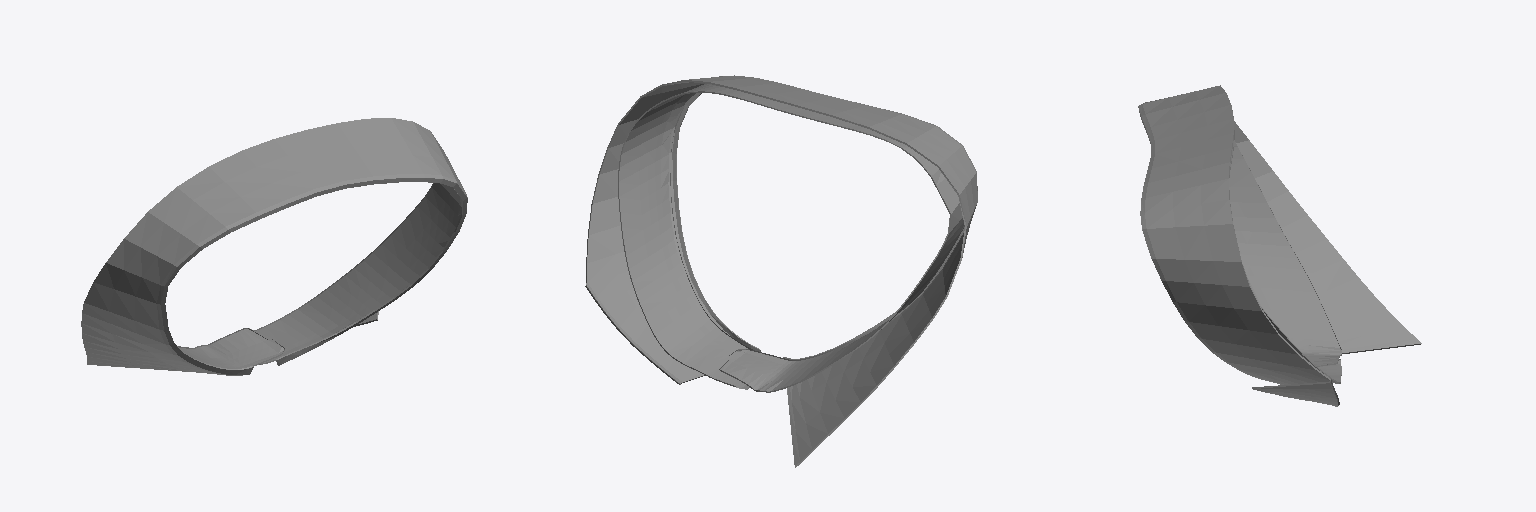
The model's file is snapdown.obj.
3 renders of one model, left to right at view 1: azimuth 30°, elevation 25°; view 2: azimuth 150°, elevation 25°; view 3: azimuth 270°, elevation 25°, orthographic.
Parts seen in each view (by area): view 1: 18_snapdown, inner_collar_out; view 2: 18_snapdown, inner_collar_out; view 3: 18_snapdown, inner_collar_out, snapdown_lipatan.
Boxes of the visible parts, <box> form: 18_snapdown: <box>81,118,467,375</box>; inner_collar_out: <box>178,183,461,368</box>; 18_snapdown: <box>586,75,977,467</box>; inner_collar_out: <box>618,84,964,392</box>; 18_snapdown: <box>1138,85,1421,404</box>; inner_collar_out: <box>1229,130,1341,383</box>; snapdown_lipatan: <box>1252,381,1338,406</box>.
Bounding box in the file's own units: 18.02 × 13.16 × 12.4.